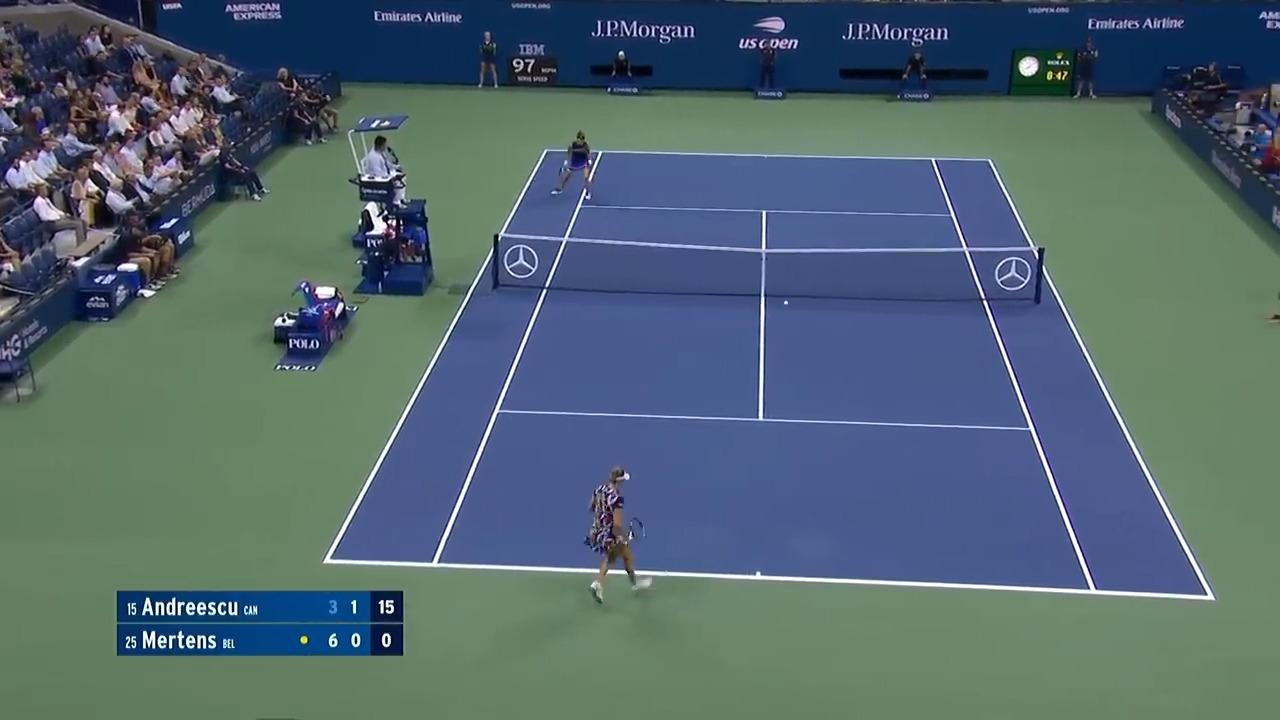tennis ball: (782, 299, 793, 306)
